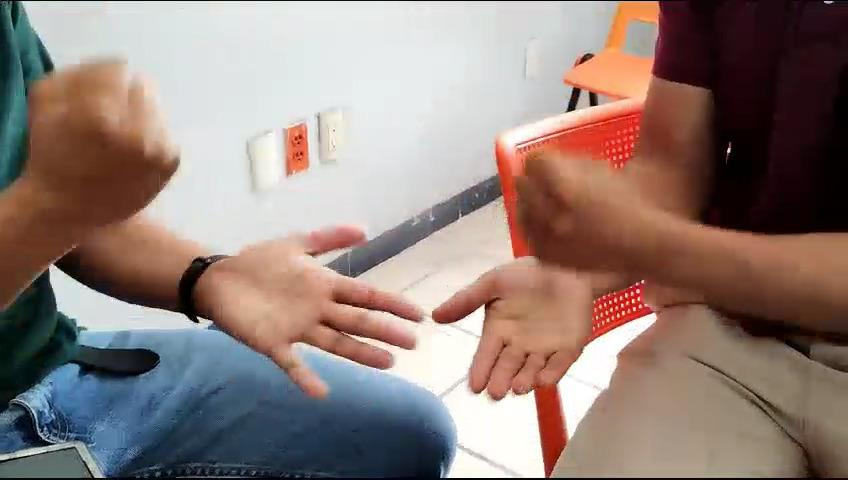Paper: (203, 216, 425, 400), (428, 254, 607, 409)
Stone: (15, 50, 187, 221), (495, 135, 666, 290)
